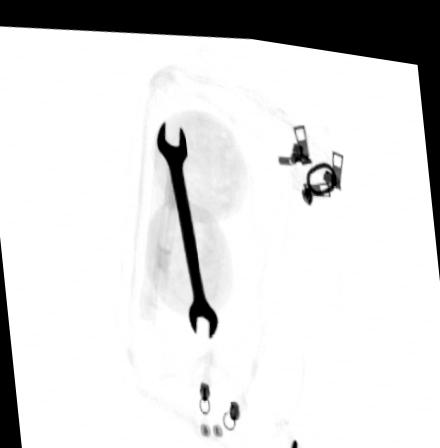Wrench: (155, 114, 218, 332)
